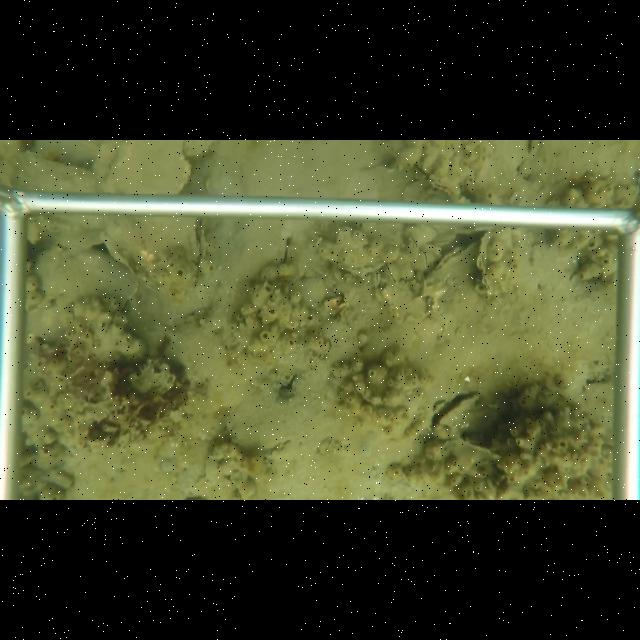Oyster-Closed: (97, 216, 212, 304), (99, 141, 194, 195), (5, 150, 102, 194), (360, 221, 409, 264), (476, 232, 495, 305), (415, 246, 432, 271), (385, 264, 402, 286), (372, 270, 382, 289), (409, 236, 419, 250)
Oyster-Open: (405, 156, 472, 202), (430, 391, 481, 437), (429, 239, 479, 275), (278, 233, 298, 266)
